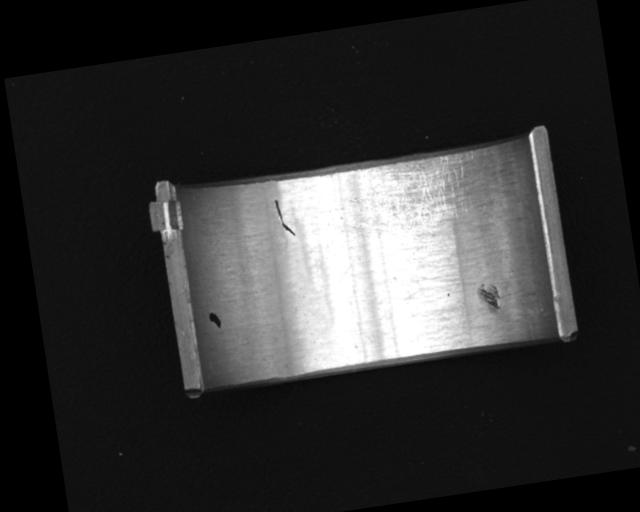blot: (207, 309, 222, 330)
bruise: (475, 279, 503, 314)
nick: (273, 196, 295, 237)
scratch: (338, 151, 484, 244)
